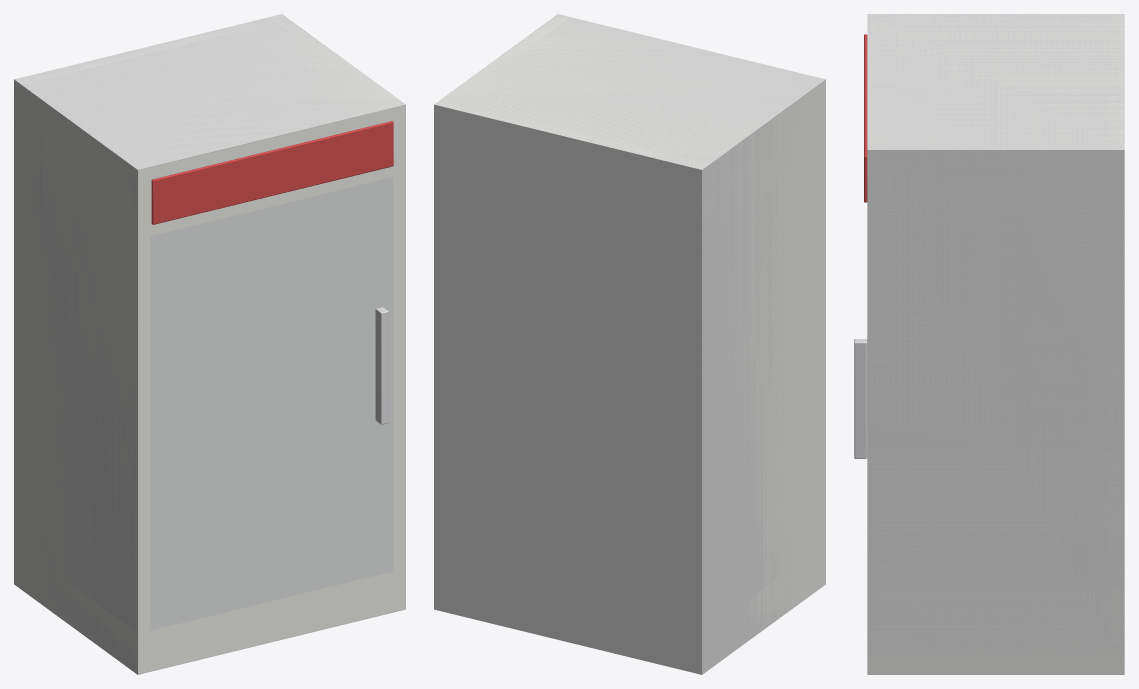
File: milk_fridge.glb
The picture shows the model from 3 angles, left to right: view 1: azimuth 30°, elevation 25°; view 2: azimuth 150°, elevation 25°; view 3: azimuth 270°, elevation 25°; orthographic projection. The views are drawn at different scales.
Parts seen in each view (by area): view 1: MilkFridge, COL_Fridge; view 2: COL_Fridge, MilkFridge; view 3: COL_Fridge, MilkFridge.
Part boxes in pixels (x1=…): MilkFridge: x1=14, y1=15, x2=404, y2=673; COL_Fridge: x1=14, y1=14, x2=405, y2=674; COL_Fridge: x1=434, y1=14, x2=825, y2=674; MilkFridge: x1=435, y1=14, x2=825, y2=628; COL_Fridge: x1=867, y1=14, x2=1124, y2=674; MilkFridge: x1=854, y1=14, x2=1123, y2=673.
Size of the model in its own units: 1 by 1.8 by 0.8399.
